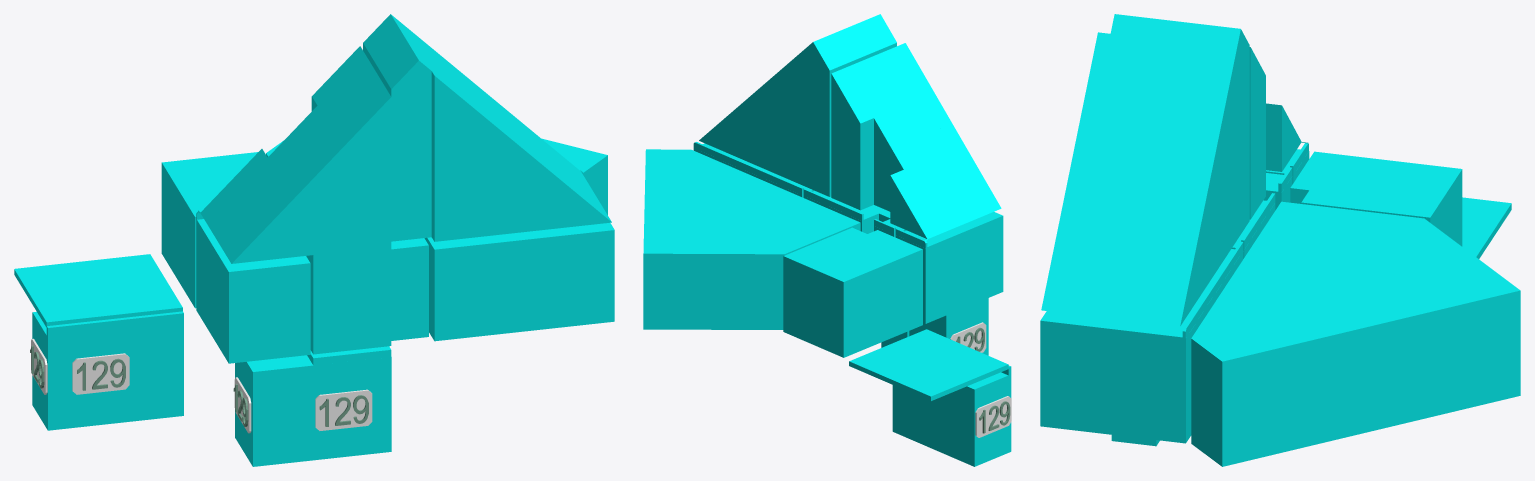
3 views of the same model, side by side, from view 1: azimuth 30°, elevation 25°; view 2: azimuth 150°, elevation 25°; view 3: azimuth 270°, elevation 25° (orthographic). The views are drawn at different scales.
Visible parts, largest first — view 1: g_2, g_5, g_3, g_1, g_8, g_4, g_13, g_12, g_10, g_9, g_0, g_7 (+3 smaller); view 2: g_11, g_3, g_9, g_2, g_8, g_1, g_13, g_4, g_6, g_0, g_5, g_29 (+1 smaller); view 3: g_11, g_2, g_5, g_9, g_3, g_13, g_6, g_8.
Part boxes in pixels (box(x1,y1,x2,y2)): g_2: box(363, 14, 611, 241); g_5: box(424, 169, 614, 341); g_3: box(198, 46, 379, 263); g_1: box(32, 311, 183, 430); g_8: box(196, 210, 310, 363); g_4: box(303, 79, 391, 255); g_13: box(14, 254, 182, 327); g_12: box(289, 346, 391, 462); g_10: box(306, 247, 391, 354); g_9: box(161, 152, 257, 308); g_0: box(235, 357, 295, 466); g_7: box(391, 238, 428, 340); g_11: box(643, 149, 860, 329); g_3: box(831, 54, 1001, 241); g_9: box(783, 227, 922, 357); g_2: box(699, 14, 896, 196); g_8: box(895, 212, 1003, 323); g_1: box(892, 365, 1011, 466); g_13: box(849, 329, 1008, 400); g_4: box(879, 43, 951, 133); g_6: box(803, 188, 906, 237); g_0: box(909, 298, 988, 355); g_5: box(693, 142, 814, 197); g_29: box(975, 396, 1011, 437); g_11: box(1191, 201, 1520, 466); g_2: box(1041, 14, 1249, 326); g_5: box(1040, 241, 1243, 443); g_9: box(1290, 151, 1462, 246); g_3: box(1249, 47, 1307, 219); g_13: box(1462, 197, 1511, 258); g_6: box(1231, 167, 1292, 258); g_8: box(1266, 143, 1309, 184).
Bounding box in the file's own units: 13.82 × 10.1 × 9.92.
